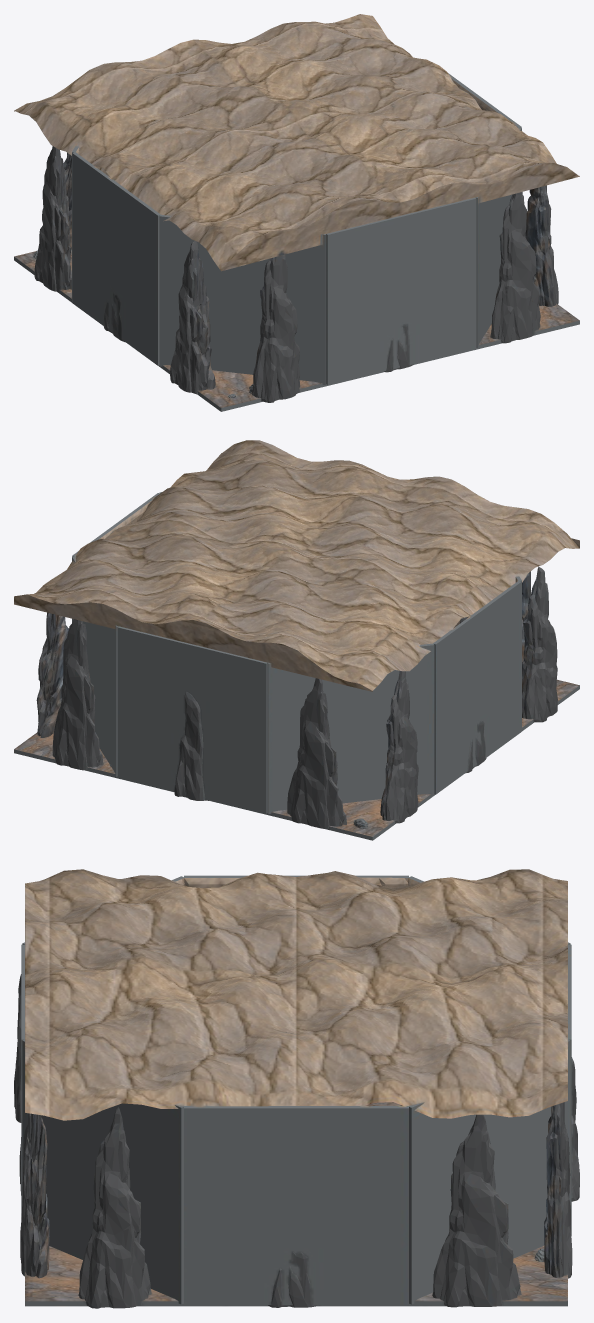
File: room.glb
3 renders of one model, top to bottom at view 1: azimuth 30°, elevation 25°; view 2: azimuth 150°, elevation 25°; view 3: azimuth 270°, elevation 25°, orthographic. The views are drawn at different scales.
Parts seen in each view (by area): view 1: MAGNET-ROOM; view 2: MAGNET-ROOM; view 3: MAGNET-ROOM.
Boxes of the visible parts, x1,y1,x2,y2 form: MAGNET-ROOM: (14,14,579,411); MAGNET-ROOM: (14,440,579,840); MAGNET-ROOM: (14,869,579,1308).
Bounding box in the file's own units: 10.37 × 4.79 × 10.43.
Materials: 1 (1 with a texture image).
